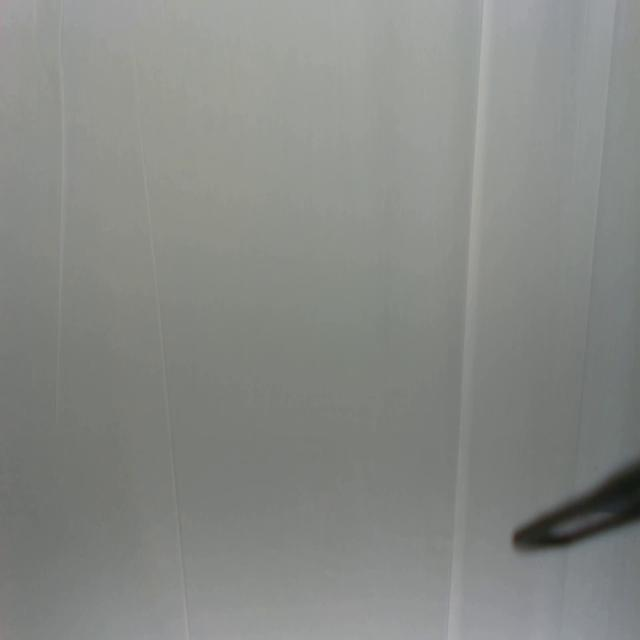crease: (128, 45, 192, 638), (446, 1, 486, 639), (573, 0, 619, 475), (53, 4, 67, 434), (554, 547, 572, 640)
